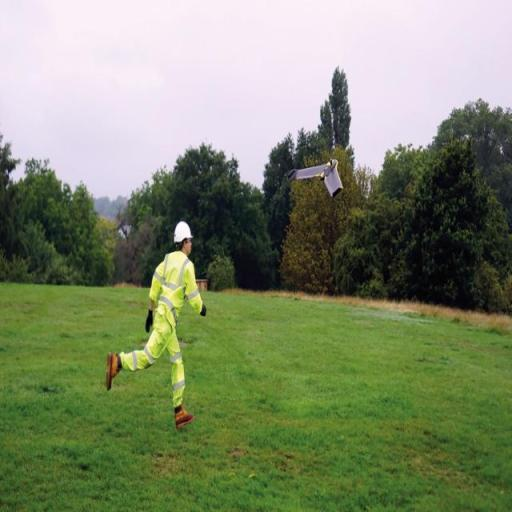uav: (290, 148, 350, 206)
